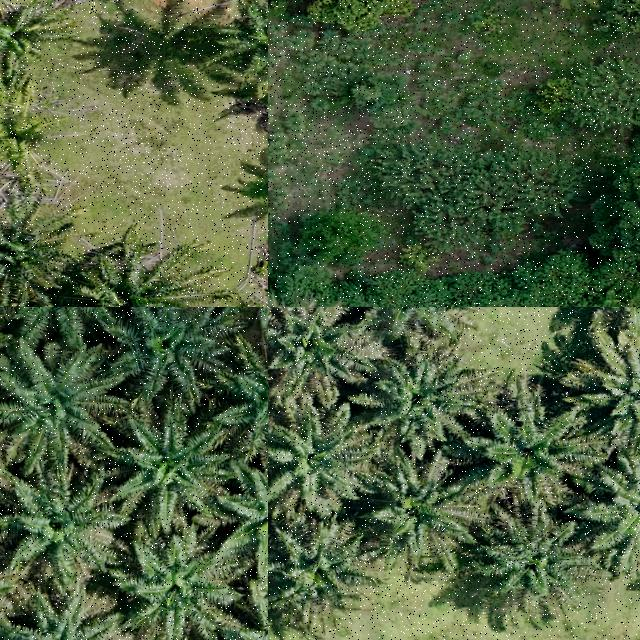Ganoderma: (0, 102, 61, 169)
